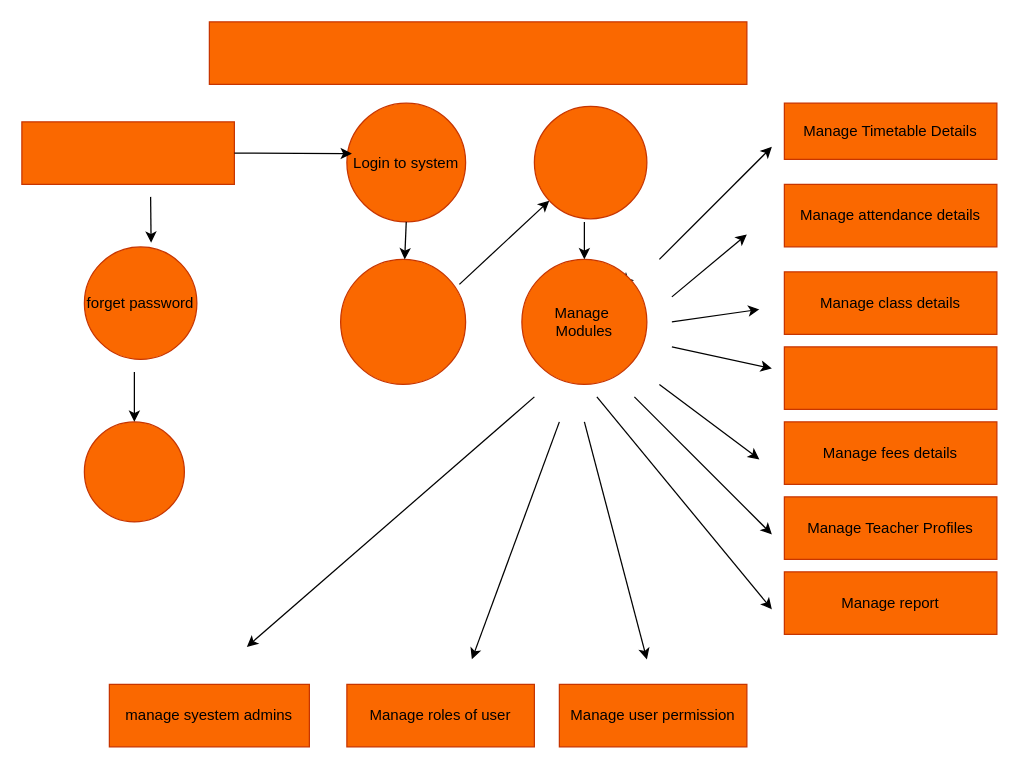
Image size: 1019x769. Some labels were removed from this diagram. The centre of each missing label's shape, as x and y in pixels:
admin: [127,152]
Check credentials: [402,321]
Check roles of Access: [590,162]
Manage student details: [890,377]
Send emails to user: [133,471]
student information system: [477,52]
